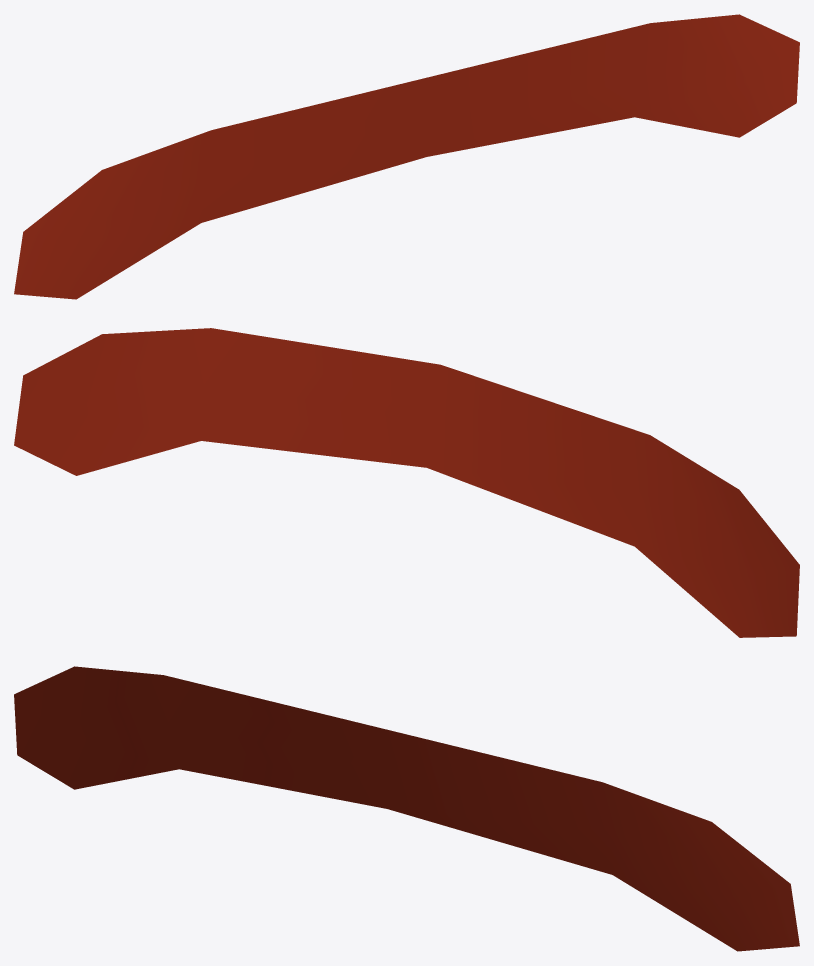
The model's file is Mouth_Red_5.fbx.
3 renders of one model, top to bottom at view 1: azimuth 30°, elevation 25°; view 2: azimuth 150°, elevation 25°; view 3: azimuth 330°, elevation 25°, orthographic.
Visible parts, largest first — view 1: Mouth_Red_5; view 2: Mouth_Red_5; view 3: Mouth_Red_5.
Part boxes in pixels (x1,y1,x2,y2): Mouth_Red_5: [14, 14, 799, 299]; Mouth_Red_5: [14, 328, 799, 637]; Mouth_Red_5: [14, 666, 799, 951].
Size of the model in its own units: 8.32 by 1.71 by 0.6506.
